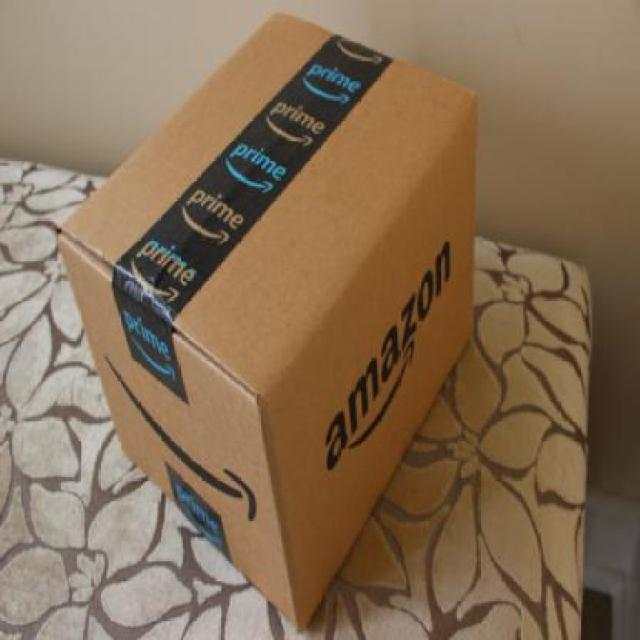cardboxes: (55, 3, 482, 639)
